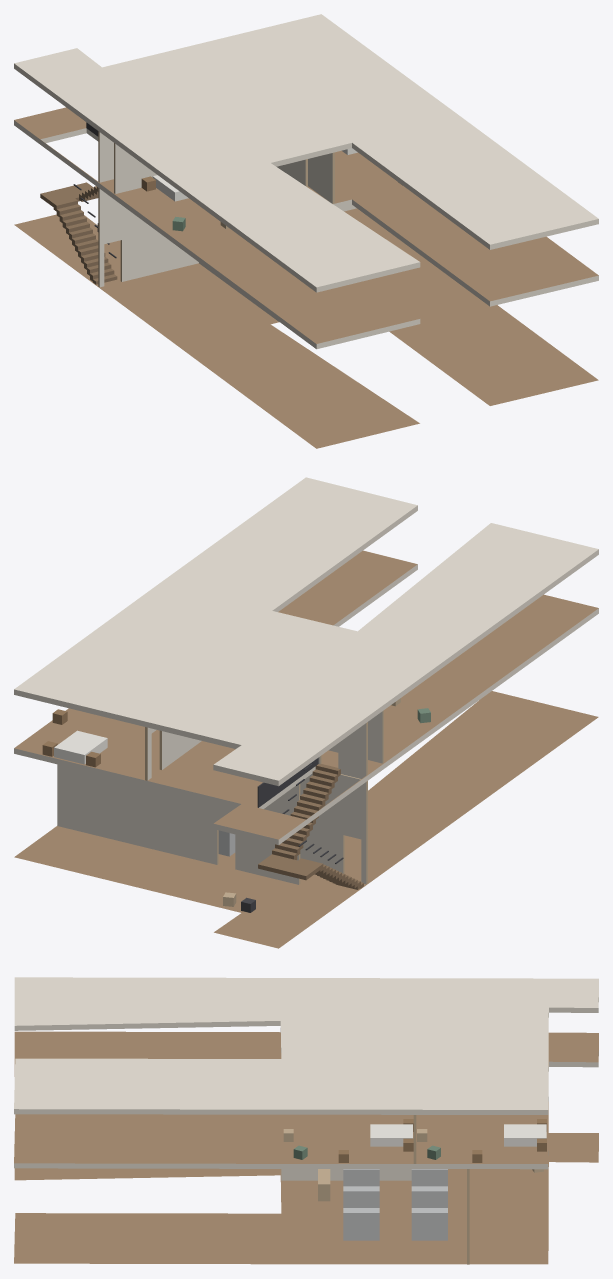
The model's file is interior.glb.
3 renders of one model, top to bottom at view 1: azimuth 30°, elevation 25°; view 2: azimuth 150°, elevation 25°; view 3: azimuth 270°, elevation 25°, orthographic. The views are drawn at different scales.
Parts seen in each view (by area): view 1: slabs, partitions, stair, coarse-s1; view 2: slabs, partitions, stair, coarse-s1, coarse-s0; view 3: slabs, coarse-s0, coarse-s1, partitions.
Part boxes in pixels (bbox=[...]): slabs: bbox=[14, 14, 598, 448]; partitions: bbox=[98, 131, 356, 321]; stair: bbox=[40, 122, 117, 284]; coarse-s1: bbox=[141, 148, 402, 231]; slabs: bbox=[14, 477, 598, 948]; partitions: bbox=[57, 710, 383, 884]; stair: bbox=[257, 757, 363, 889]; coarse-s1: bbox=[42, 698, 430, 767]; coarse-s0: bbox=[218, 830, 255, 912]; slabs: bbox=[14, 977, 598, 1264]; coarse-s0: bbox=[318, 1169, 543, 1240]; coarse-s1: bbox=[283, 1119, 546, 1162]; partitions: bbox=[281, 1115, 469, 1264].
Bounding box in the file's own units: 14.68 × 8 × 27.38.
